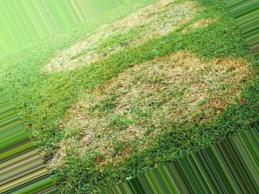patch: (98, 102, 164, 133), (104, 69, 162, 91), (164, 53, 207, 82), (139, 13, 185, 32), (83, 30, 131, 46), (66, 106, 89, 127), (172, 94, 196, 108), (59, 46, 75, 64), (202, 84, 223, 95)
